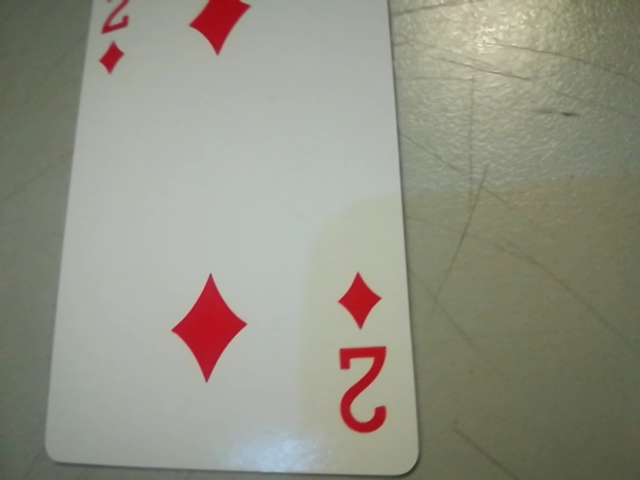fk 2: (316, 258, 406, 450)
